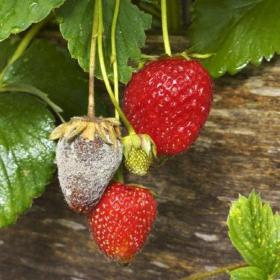Gray Mold: (48, 116, 124, 215)
